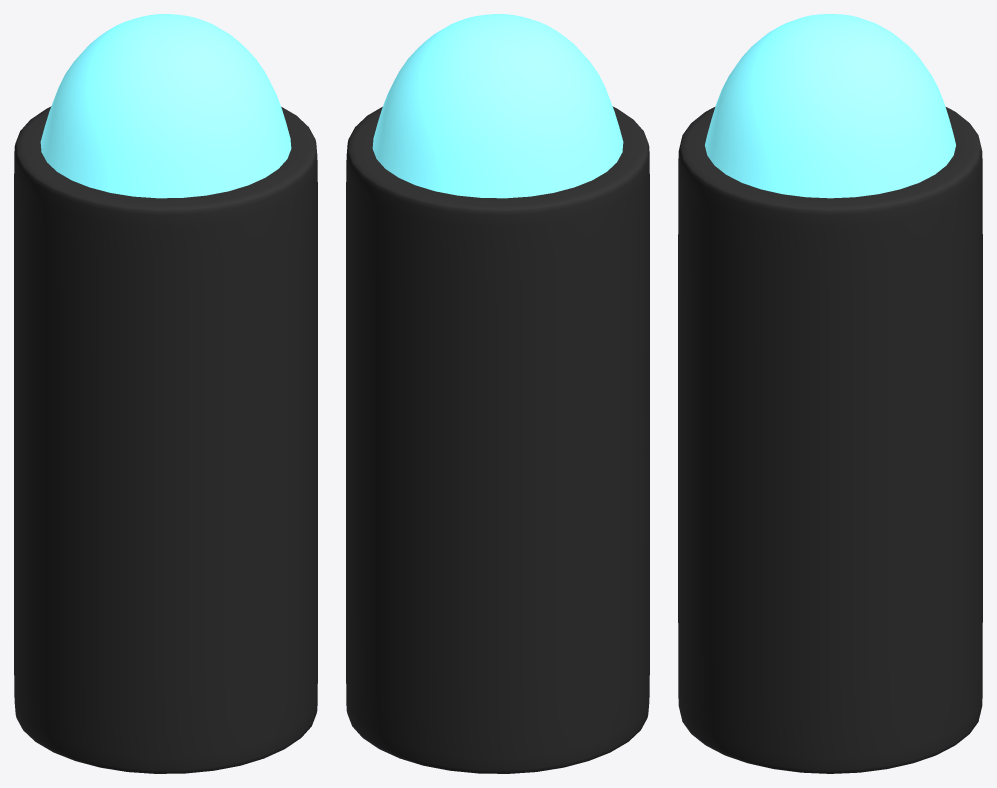
The model's file is Interruptor1.fbx.
3 views of the same model, side by side, from view 1: azimuth 30°, elevation 25°; view 2: azimuth 150°, elevation 25°; view 3: azimuth 270°, elevation 25° (orthographic).
Parts seen in each view (by area): view 1: Cylinder, Sphere; view 2: Cylinder, Sphere; view 3: Cylinder, Sphere.
Part boxes in pixels (<box>): Cylinder: <box>14,106,317,773</box>; Sphere: <box>40,14,291,198</box>; Cylinder: <box>346,106,649,773</box>; Sphere: <box>372,14,623,198</box>; Cylinder: <box>678,107,982,773</box>; Sphere: <box>705,14,955,198</box>.
Size of the model in its own units: 219 by 543 by 219.
